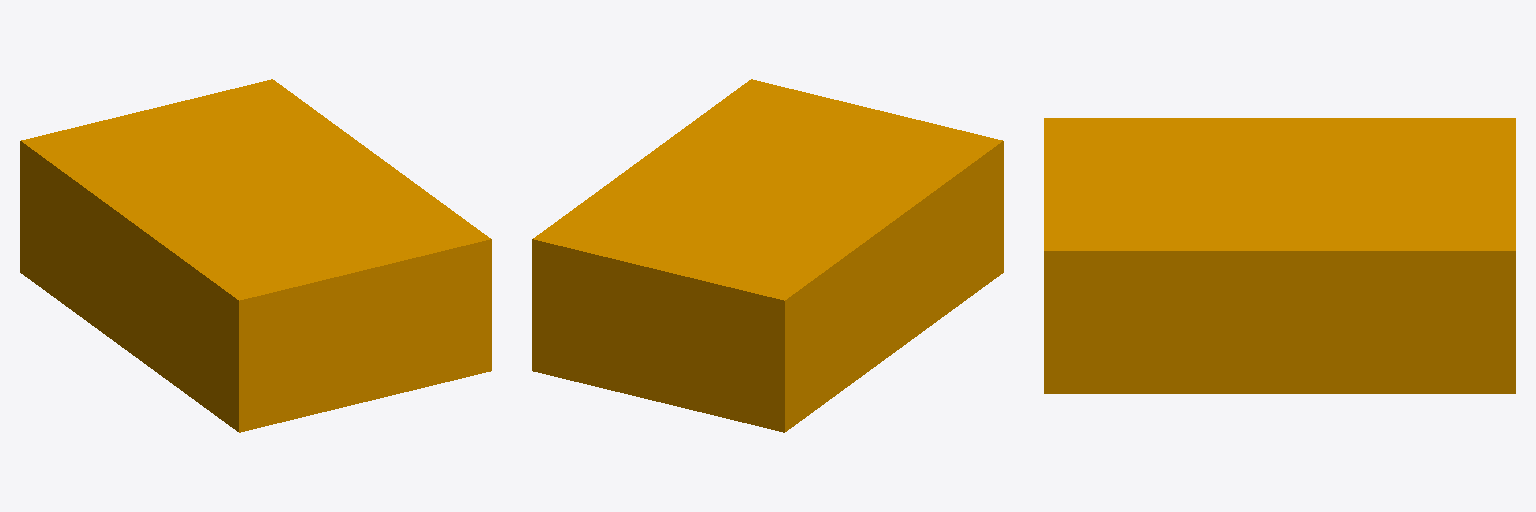
robot.urdf — cylinder:
<?xml version="1.0"?>
<robot name="cylinder">
	<link name="base_link">
		<visual>
			<geometry>
				<box size="0.1 0.15 0.05"/>
			</geometry>
		</visual>
	</link>
</robot>
	

--- What the picture shows (computed from the rendered views, not written in the file) ---
The picture shows the robot from 3 angles, left to right: view 1: azimuth 30°, elevation 25°; view 2: azimuth 150°, elevation 25°; view 3: azimuth 270°, elevation 25°; orthographic projection.
Robot: cylinder — 1 links, 0 joints (none); root link base_link; default pose: every joint at zero.
Visible links, largest first — view 1: base_link; view 2: base_link; view 3: base_link.
Boxes of the visible links, x1,y1,x2,y2 form: base_link: (20, 79, 491, 432); base_link: (532, 79, 1003, 432); base_link: (1044, 118, 1515, 393).
Size in the robot's own frame: 0.1 by 0.15 by 0.05 metres.
Geometry: primitives only (box / cylinder / sphere), no mesh files.